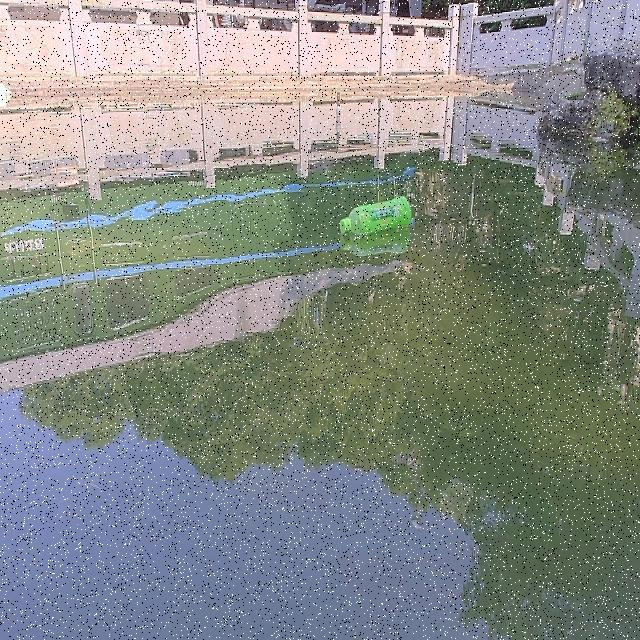Bottle: (338, 192, 414, 235)
